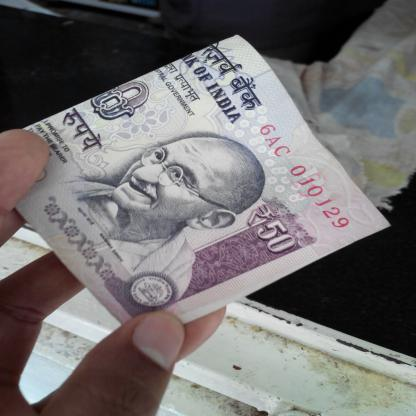Old50Front: (11, 35, 394, 326)
